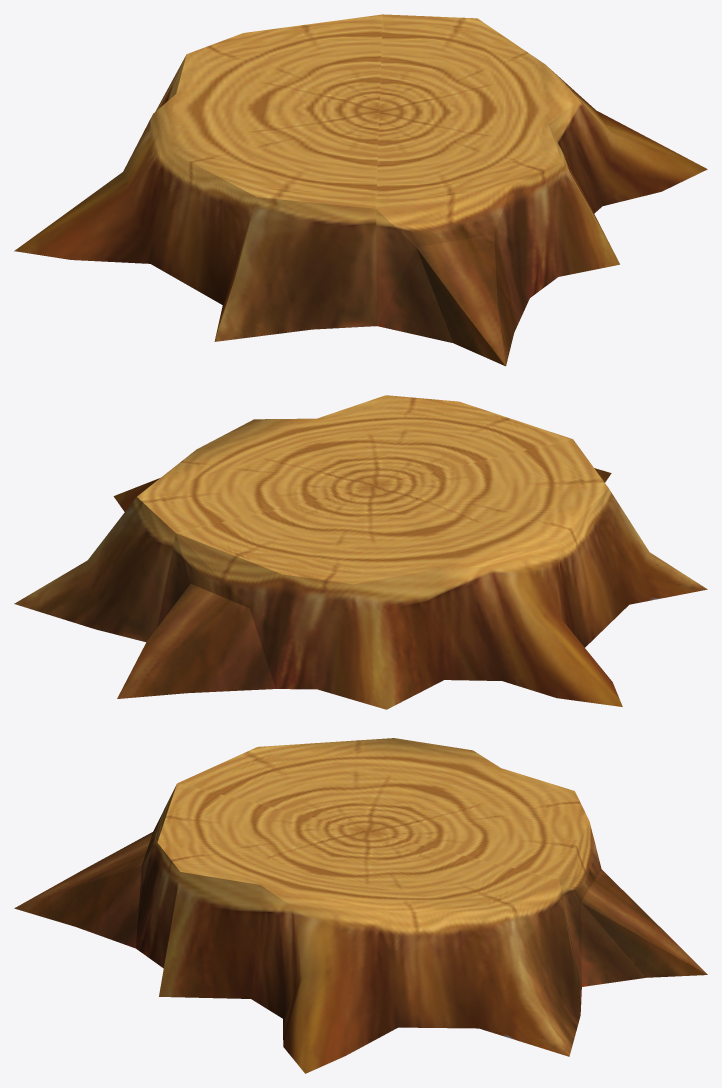
The model's file is Shuzhuan02.FBX.
The picture shows the model from 3 angles, top to bottom: view 1: azimuth 30°, elevation 25°; view 2: azimuth 150°, elevation 25°; view 3: azimuth 270°, elevation 25°; orthographic projection. The views are drawn at different scales.
Parts seen in each view (by area): view 1: Cylinder039; view 2: Cylinder039; view 3: Cylinder039.
Boxes of the visible parts, x1=… form: Cylinder039: x1=14, y1=14, x2=707, y2=366; Cylinder039: x1=14, y1=395, x2=707, y2=709; Cylinder039: x1=14, y1=738, x2=707, y2=1073.
Bounding box in the file's own units: 58.05 × 9.83 × 59.71.
